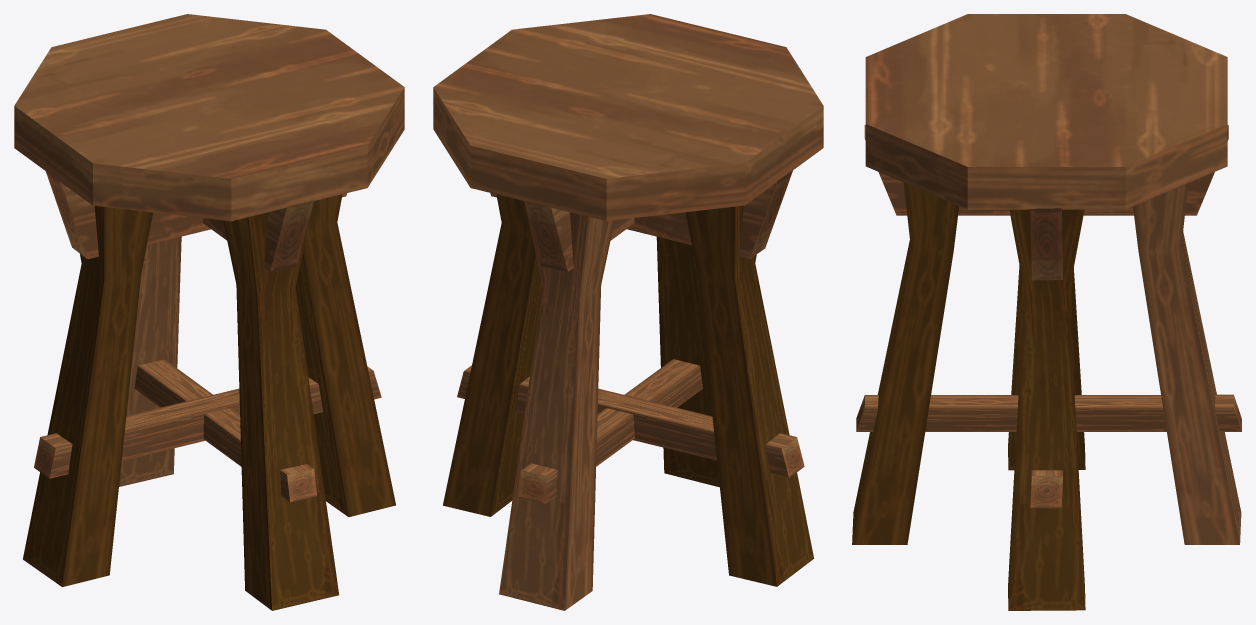
File: Stool.glb
3 renders of one model, left to right at view 1: azimuth 30°, elevation 25°; view 2: azimuth 150°, elevation 25°; view 3: azimuth 270°, elevation 25°, orthographic.
Visible parts, largest first — view 1: Stool; view 2: Stool; view 3: Stool.
Part boxes in pixels (bbox=[...]): Stool: bbox=[14, 14, 404, 610]; Stool: bbox=[433, 14, 823, 610]; Stool: bbox=[852, 14, 1241, 610].
Bounding box in the file's own units: 0.4746 × 0.5887 × 0.4746.
1 material, 1 textured.
